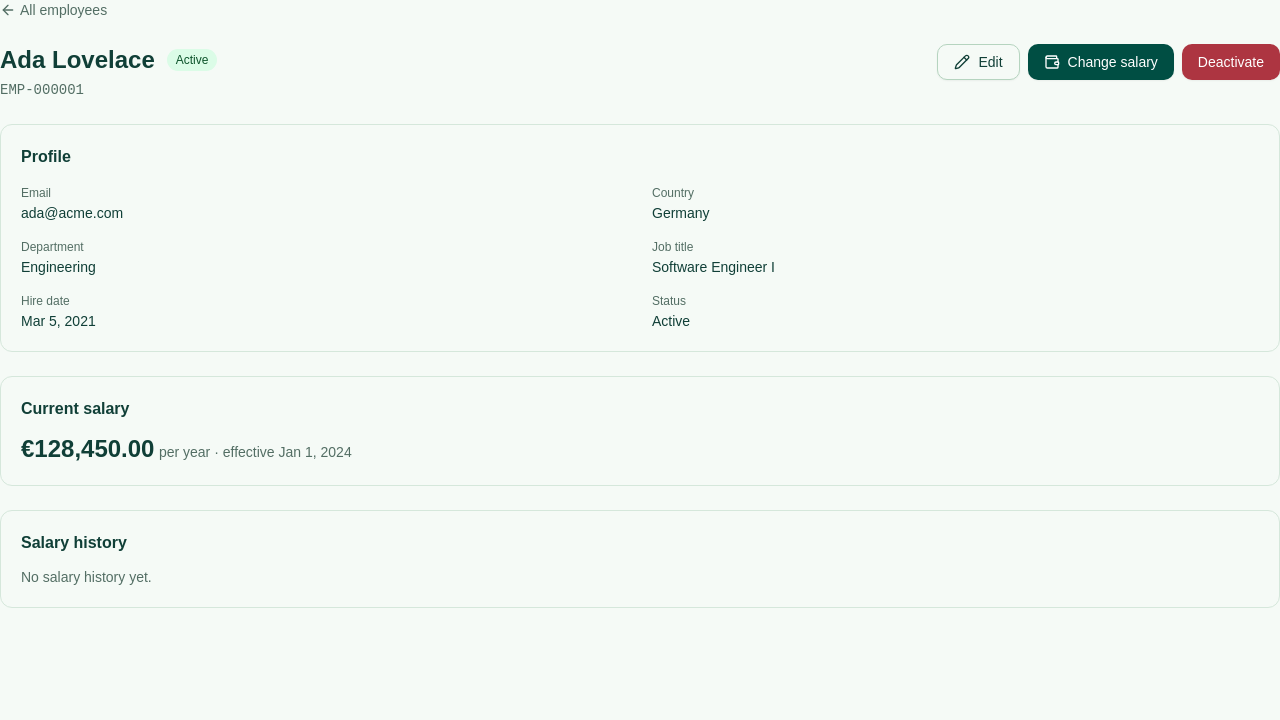
Test: employee pages › detail › deactivates only after confirmation and then shows the terminated state
Step 1. Click the button "Deactivate" → (1231,62), box 1182,44 -> 1279,80
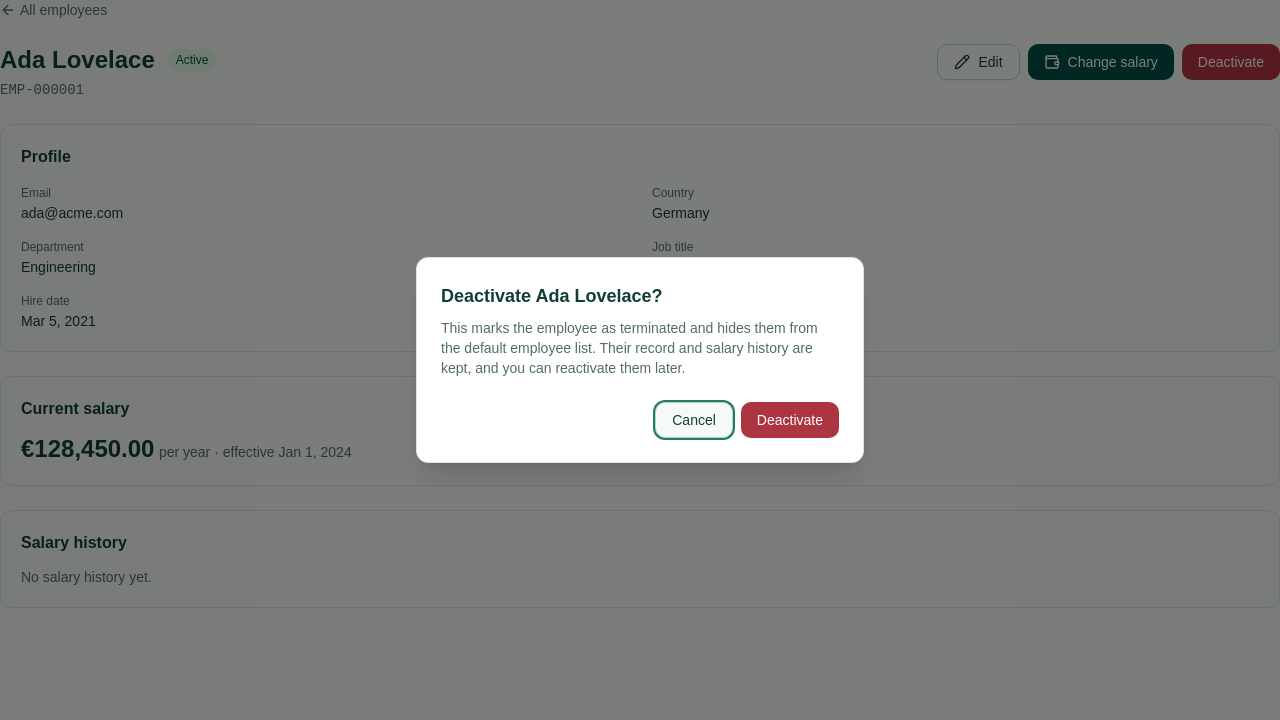
Step 2. Click the button "Deactivate" → (790,420), box 741,402 -> 839,438
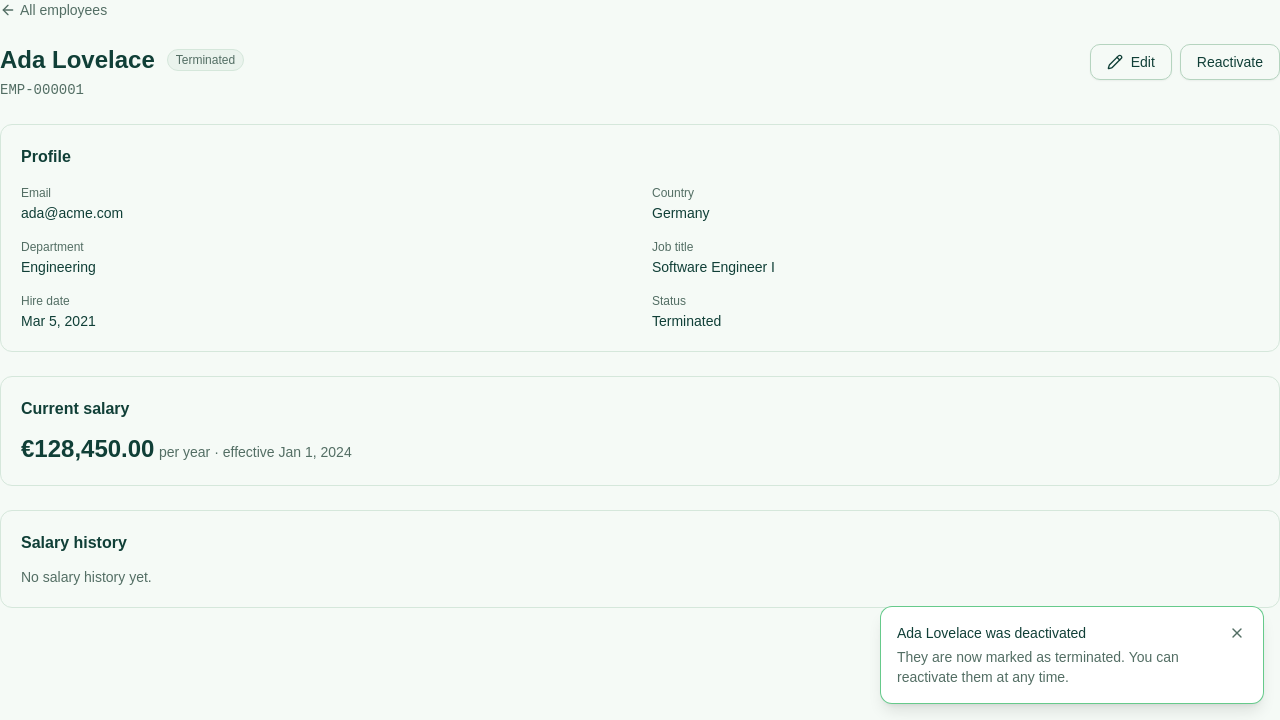
Check: the button with aria-label "Reactivate Ada Lovelace" is shown, box 1180,44 -> 1279,80
Check: the text "Terminated" in the row of "Edit" is shown, box 176,53 -> 235,67
